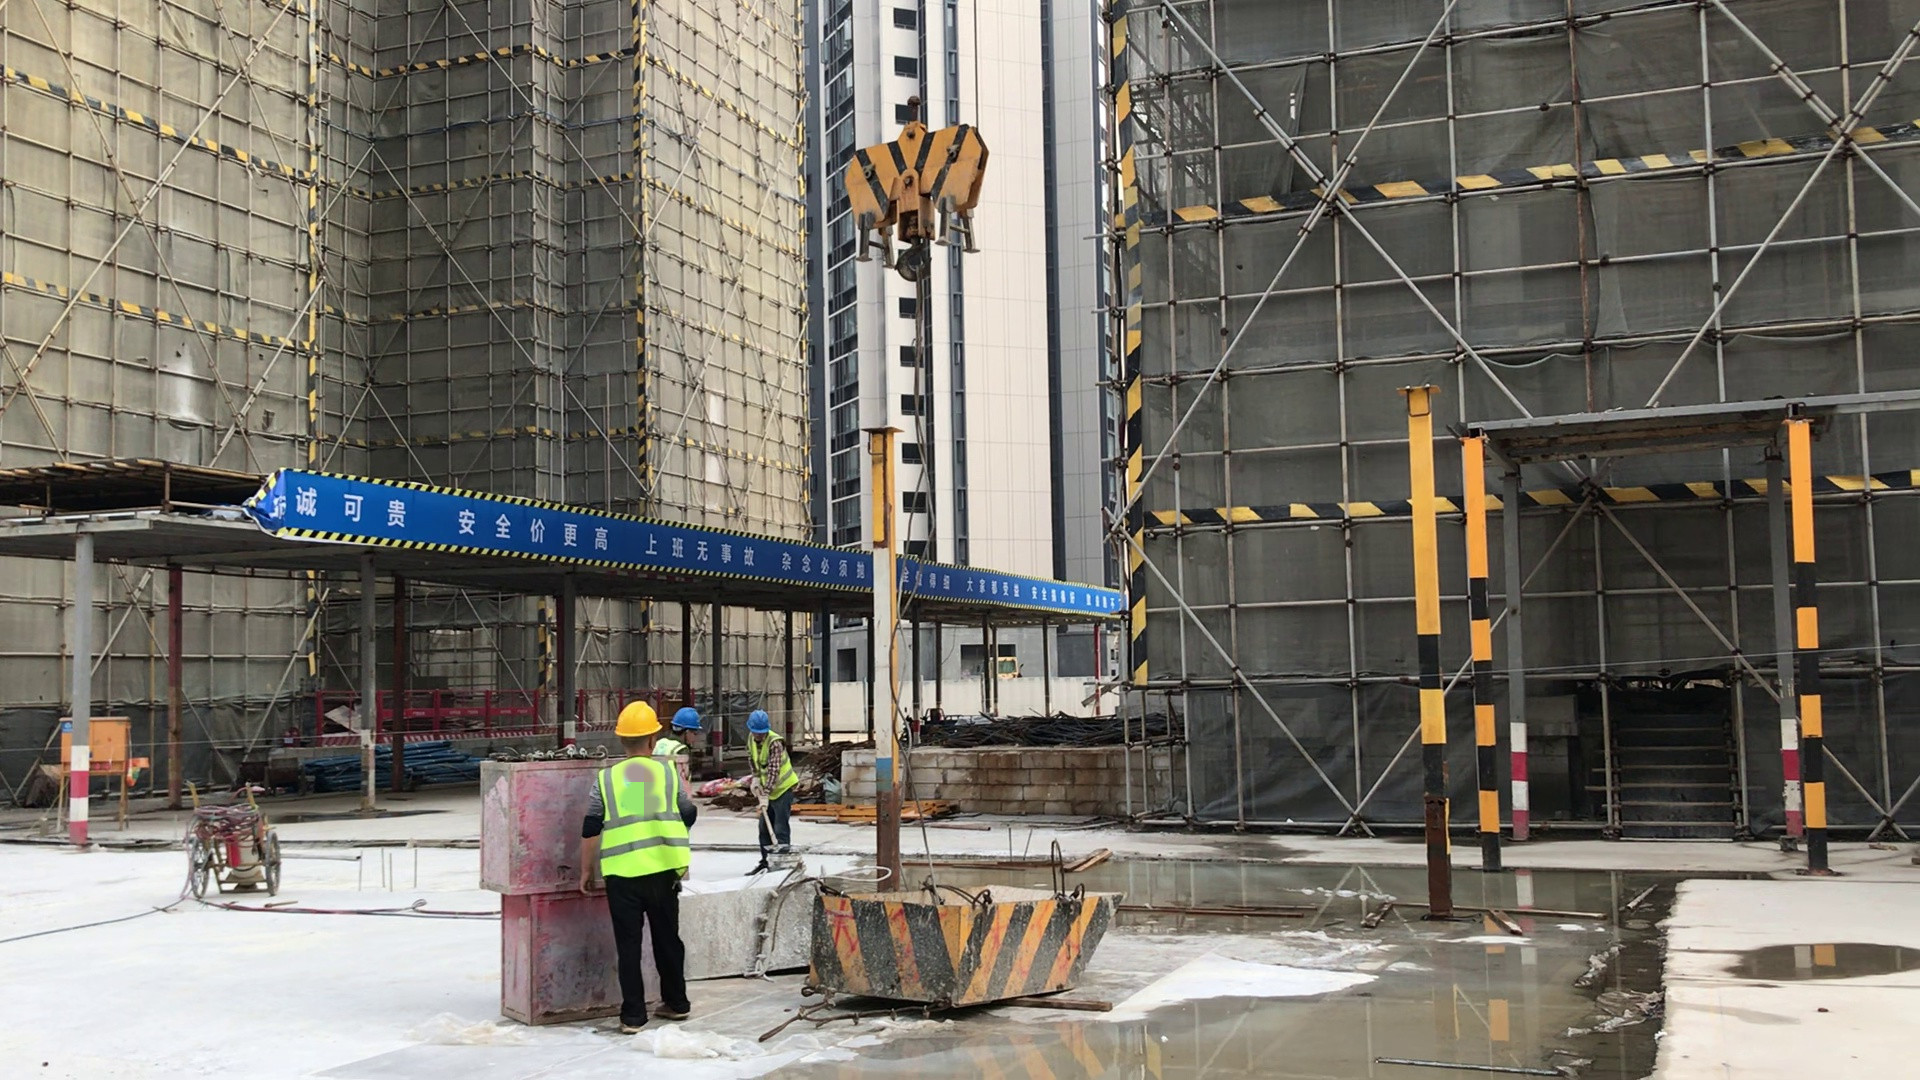ebox: (47, 706, 138, 786)
fence: (297, 671, 595, 750)
handcart: (180, 780, 295, 905)
helmet: (604, 691, 656, 746), (734, 691, 775, 739), (664, 693, 703, 732)
hook: (838, 95, 995, 283)
hopper: (799, 872, 1096, 1012)
person: (589, 702, 700, 1038), (737, 705, 803, 878), (670, 687, 706, 822)
slogan: (221, 432, 1170, 654)
vest: (584, 749, 689, 875), (738, 731, 795, 795)
